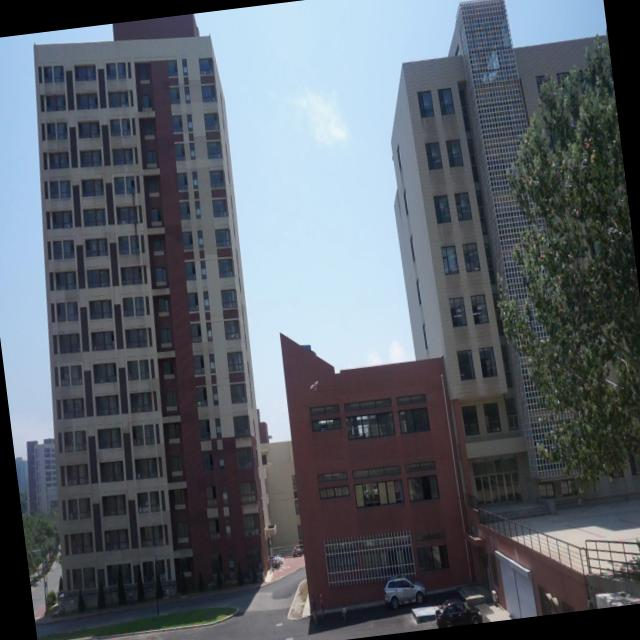drone: (306, 376, 322, 396)
